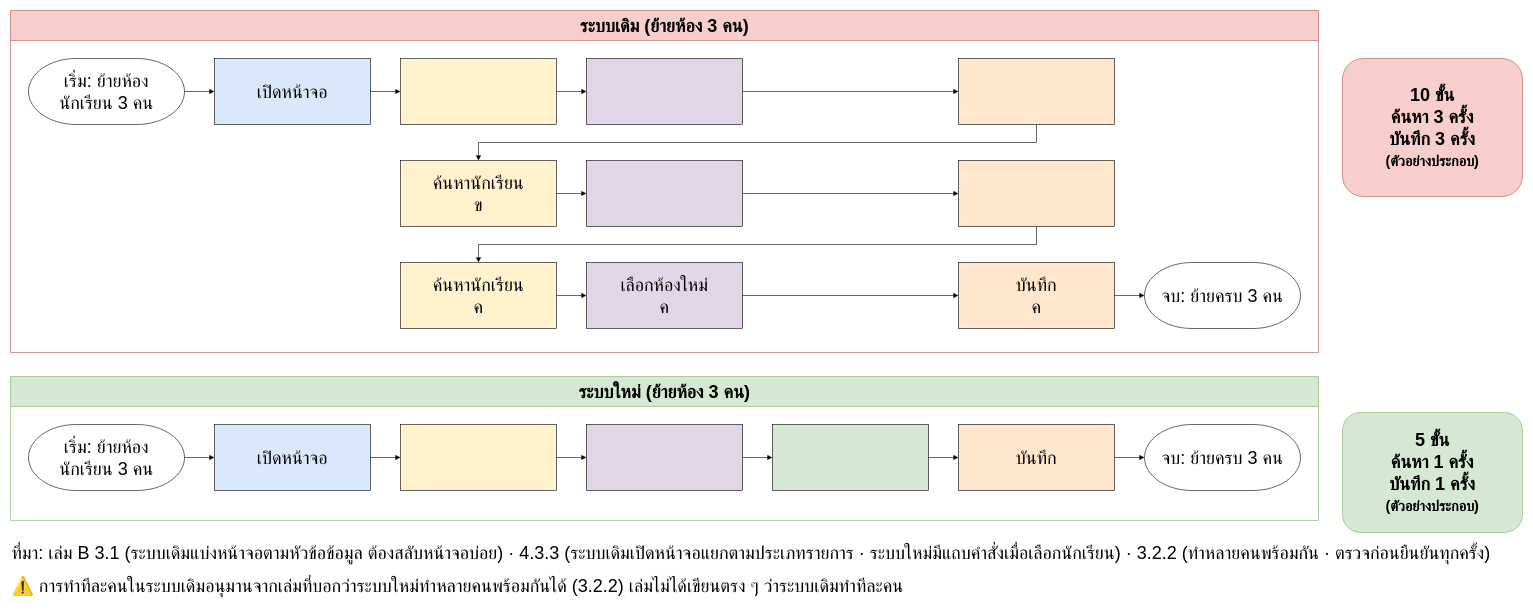
Image size: 1533x612. Some labels were removed from this diagram. Here are the shapes that lost their labels. From the top down, the centre of each, then its label:
[478,91]: ค้นหานักเรียน ก
[664,91]: เลือกห้องใหม่ ก
[1036,91]: บันทึก ก
[664,193]: เลือกห้องใหม่ ข
[1036,193]: บันทึก ข
[478,457]: ค้นหานักเรียน เลือก ก ข ค พร้อมกัน
[664,457]: เลือกห้องใหม่
[850,457]: ตรวจผล
